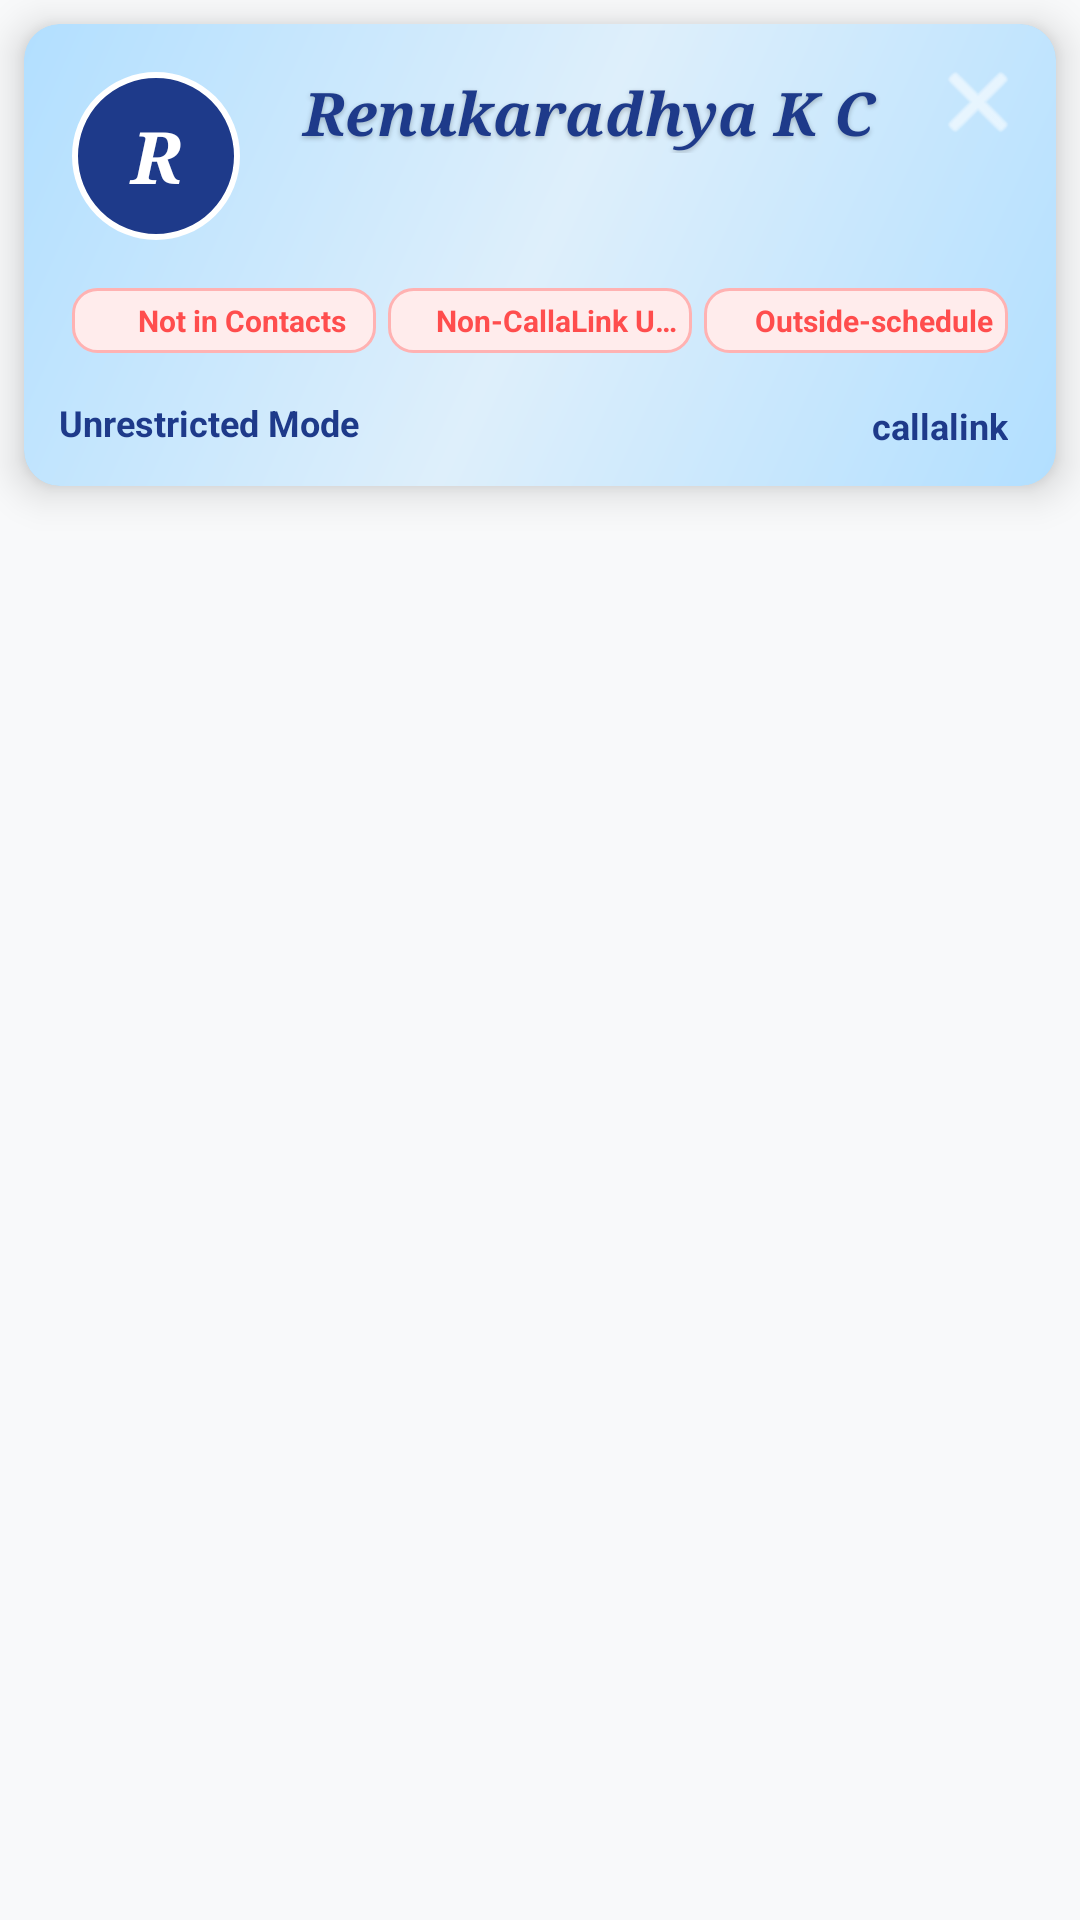

Locate icon controls on the screen. Image size 1080×1920, boxes as [x1=x1, y1=y1, x2=x2, y2=y2].
Close: [x1=950, y1=74, x2=1006, y2=130]
